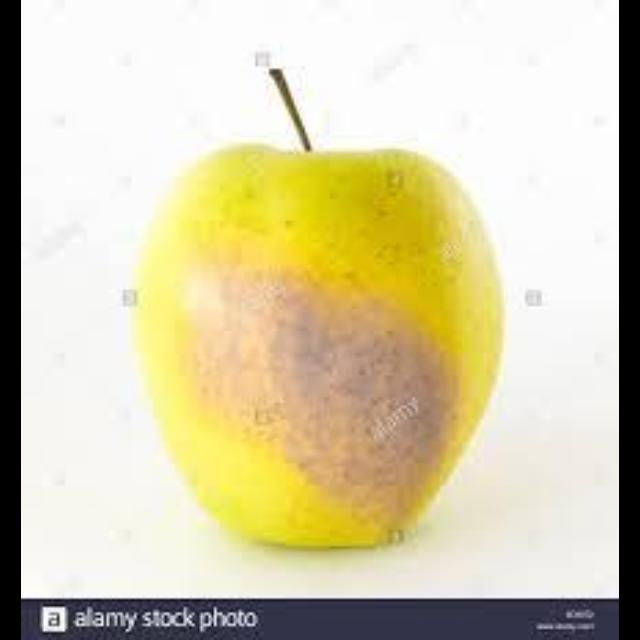apple: (134, 110, 501, 546)
rotten: (176, 270, 462, 524)
